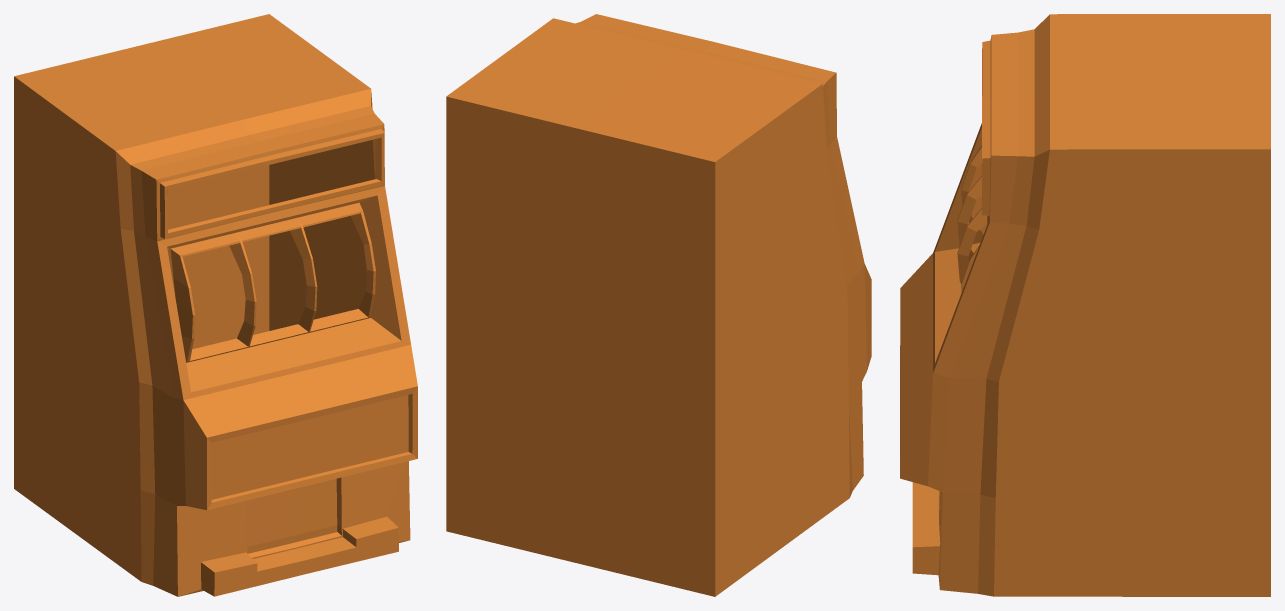
Rendered from slotmachine_02.glb.
3 renders of one model, left to right at view 1: azimuth 30°, elevation 25°; view 2: azimuth 150°, elevation 25°; view 3: azimuth 270°, elevation 25°, orthographic. The views are drawn at different scales.
Parts seen in each view (by area): view 1: Cube; view 2: Cube; view 3: Cube.
Part boxes in pixels (<box>): Cube: <box>14,14,417,596</box>; Cube: <box>446,14,871,596</box>; Cube: <box>900,14,1270,596</box>.
Bounding box in the file's own units: 1.27 × 1.96 × 1.47.
